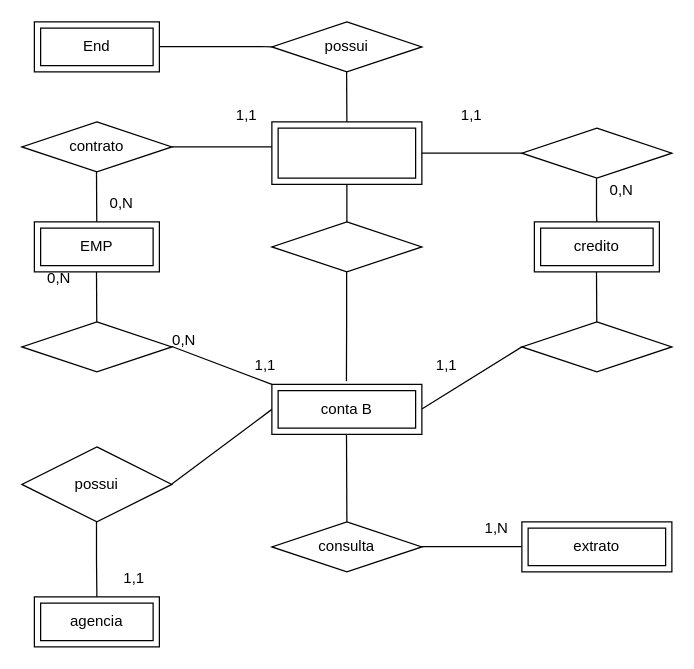
The diagram is 694 pixels wide and 669 high, and some of its shapes have lost their labels. The box of each missing label's shape, as (x1, y1, x2, y2) in pixels:
Cliente: (271, 121, 422, 184)
comcede: (521, 321, 672, 372)
contem: (271, 221, 422, 272)
registra: (21, 321, 172, 372)
solicita: (521, 127, 672, 178)
